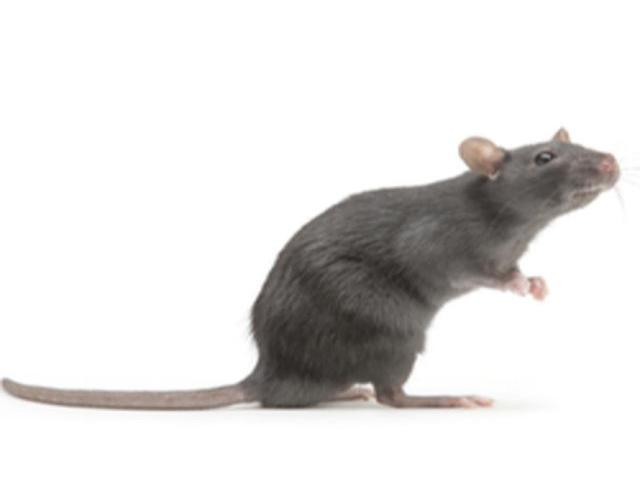Tikus: (8, 128, 620, 411)
